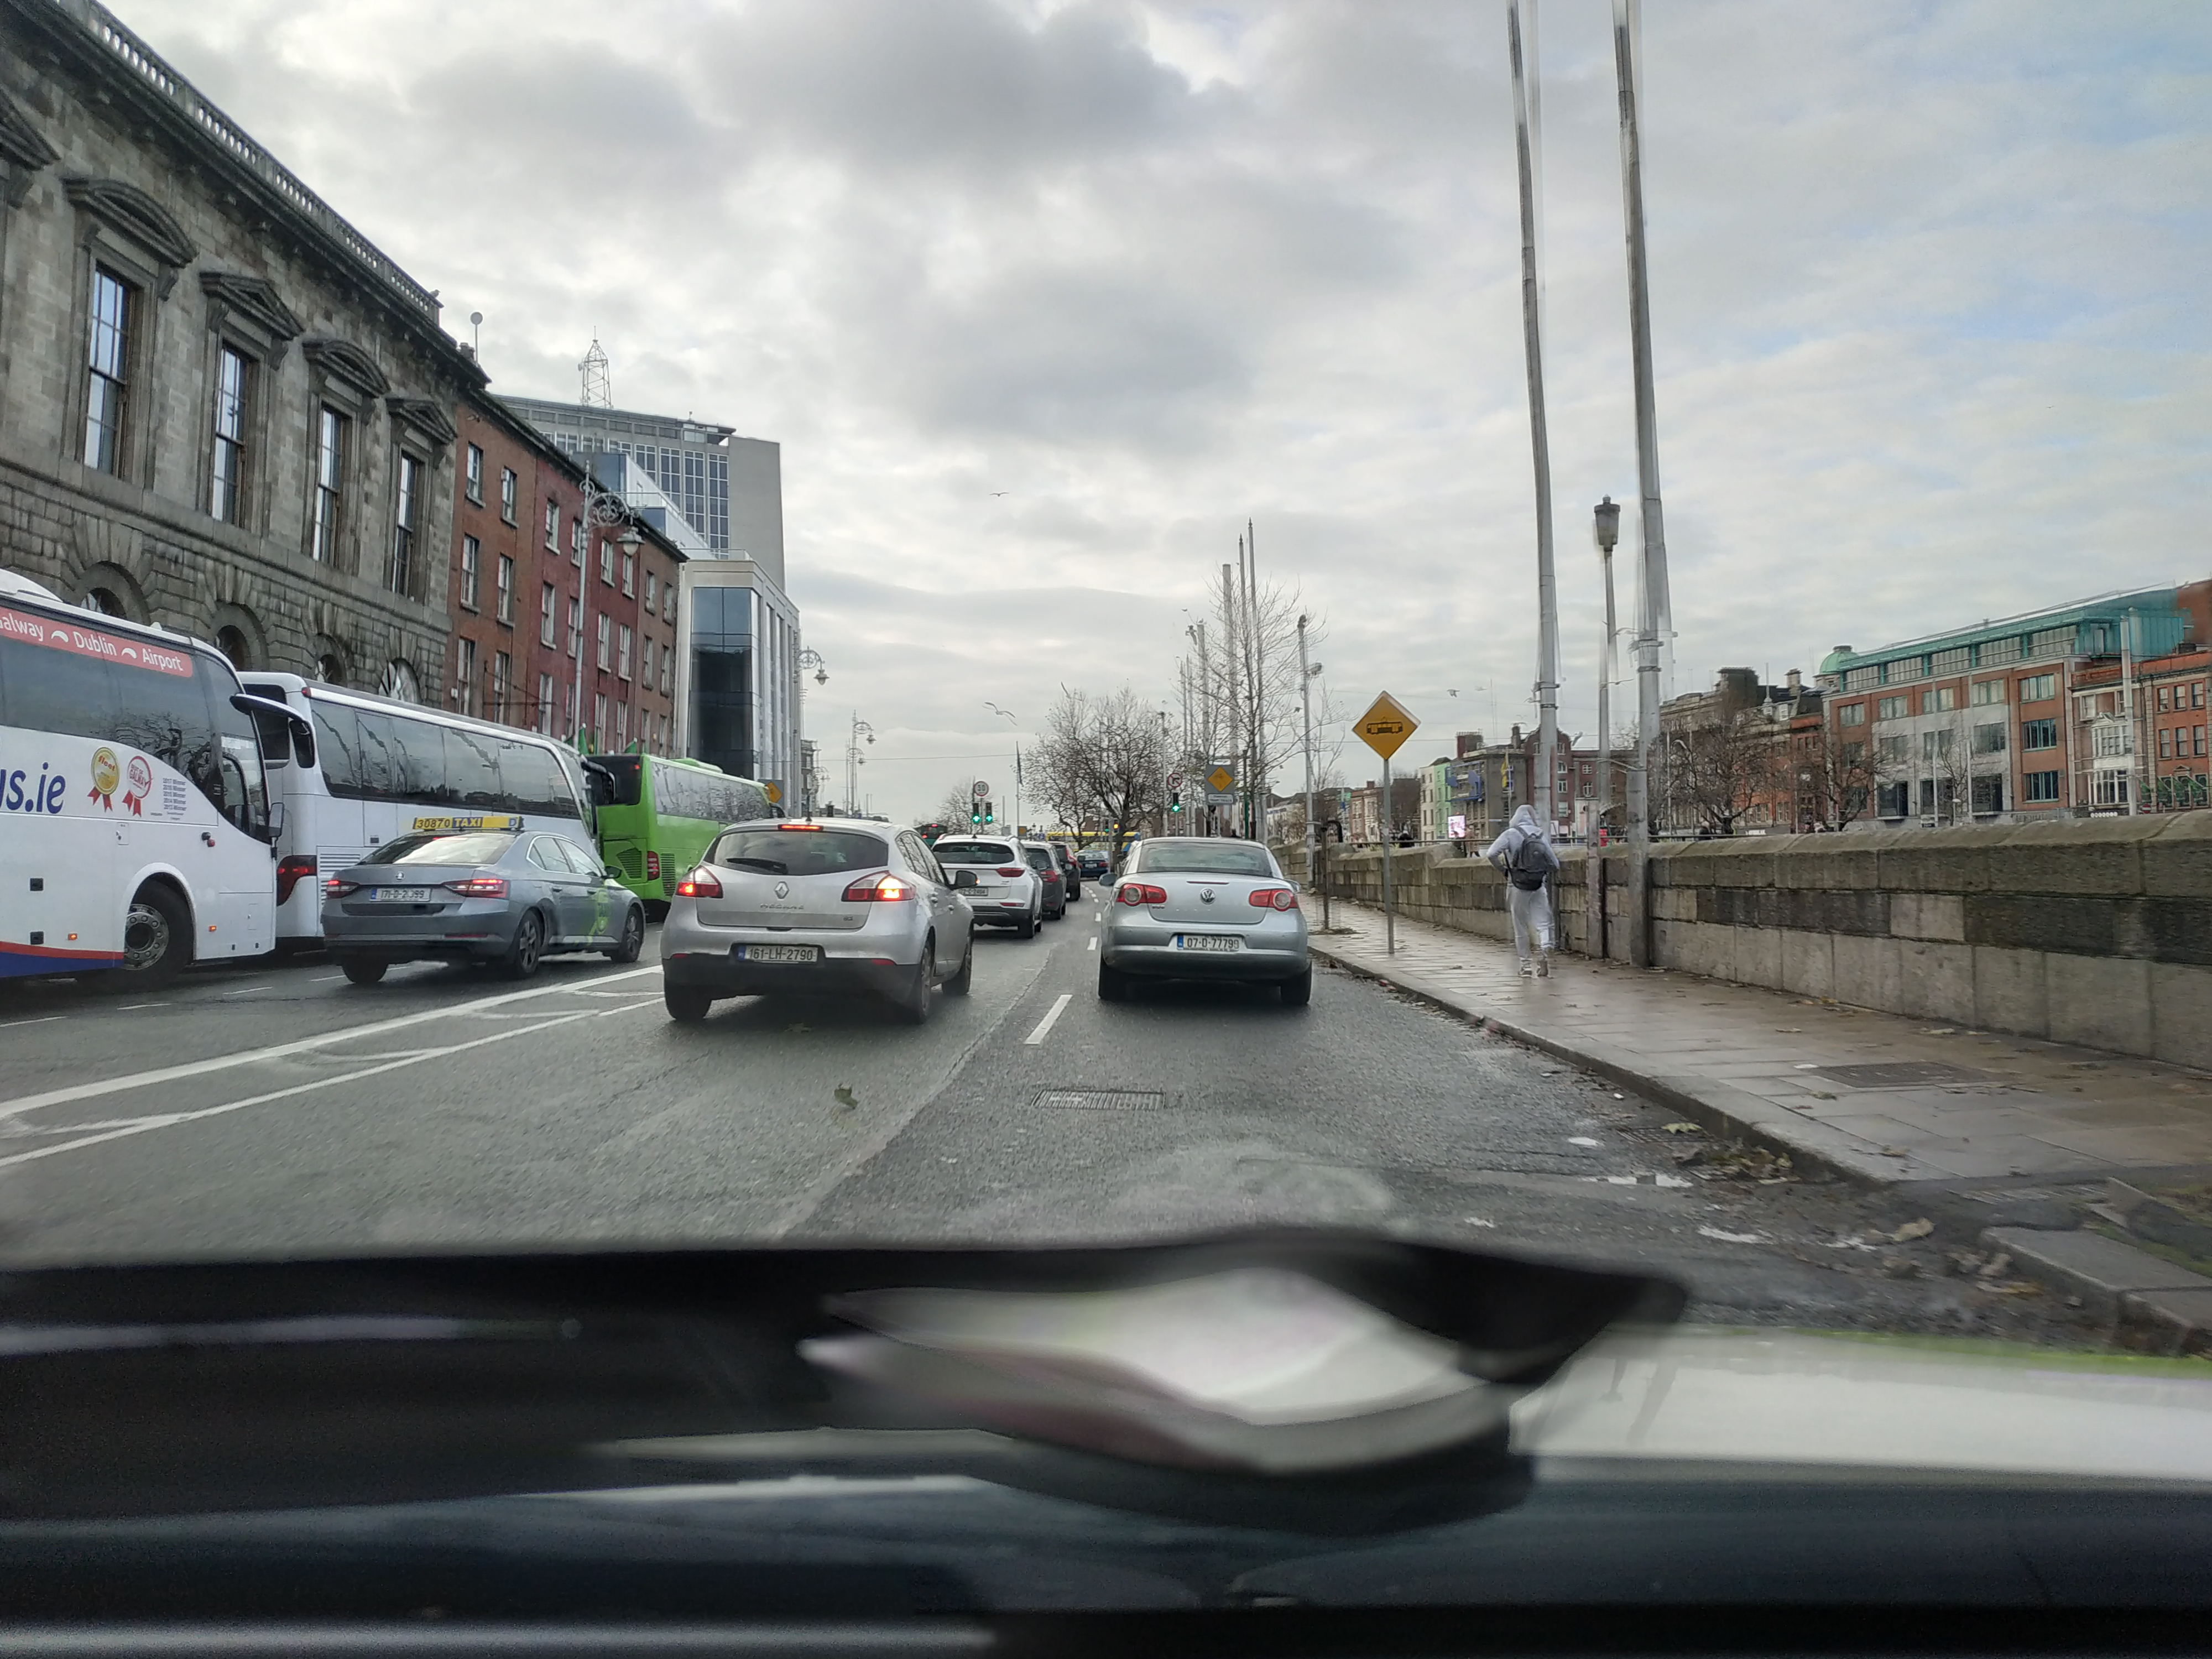Bus: (588, 756, 789, 915)
Car: (665, 816, 973, 1027), (1098, 832, 1312, 1004)
Coach: (1, 572, 279, 986), (238, 669, 591, 952)
Person: (1485, 800, 1558, 980)
Taxi: (326, 810, 645, 986)
